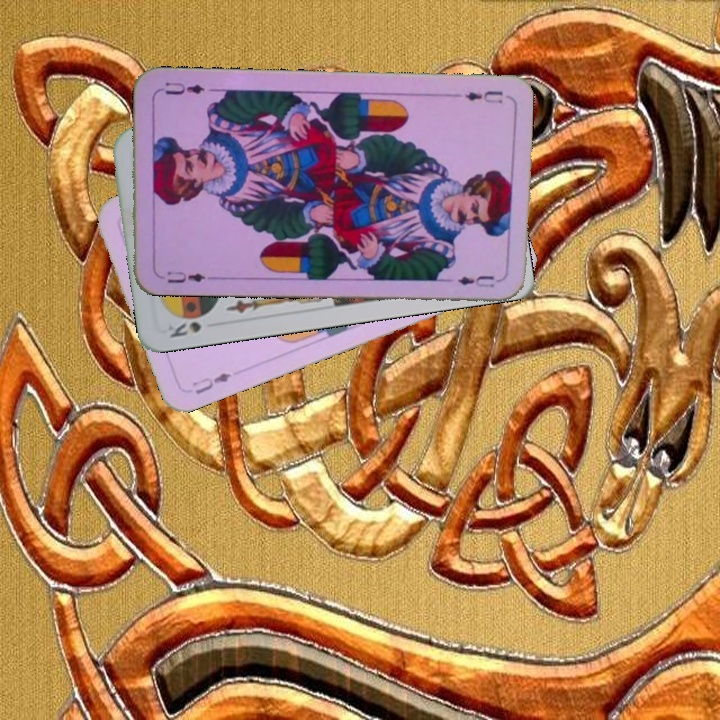EU: (188, 368, 234, 397), (154, 267, 213, 286), (461, 87, 505, 106)
SK: (164, 317, 204, 340)
